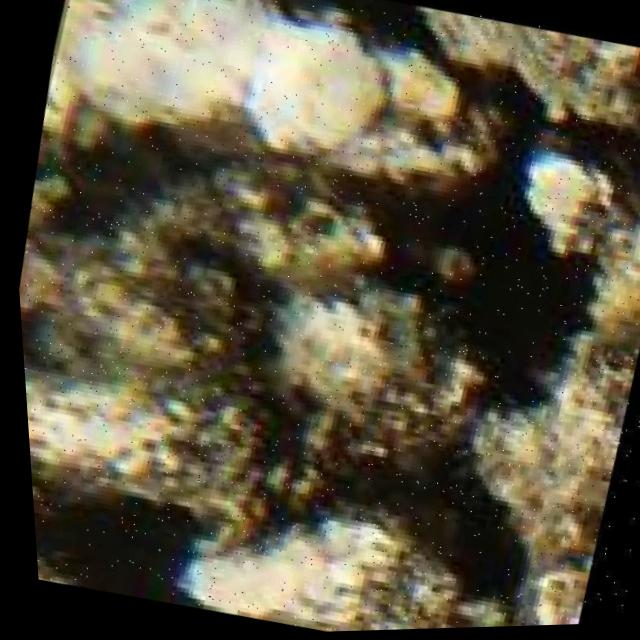Bleached Coral: (40, 0, 411, 206), (143, 482, 383, 637)
